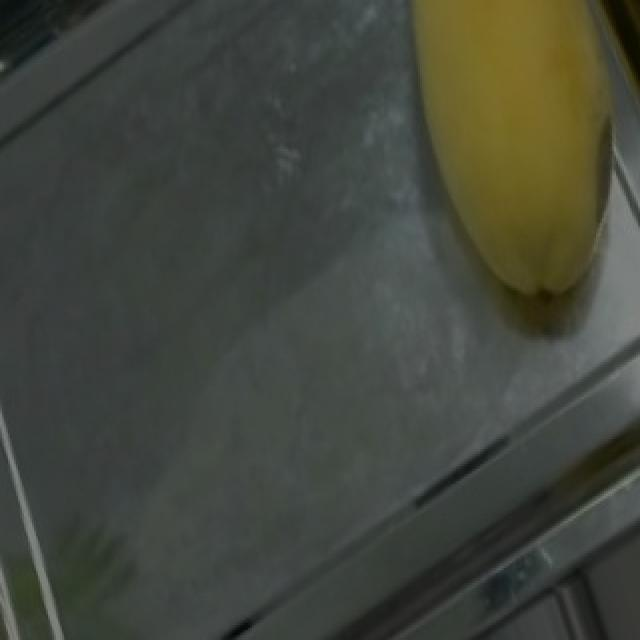fruit: (342, 0, 640, 325)
